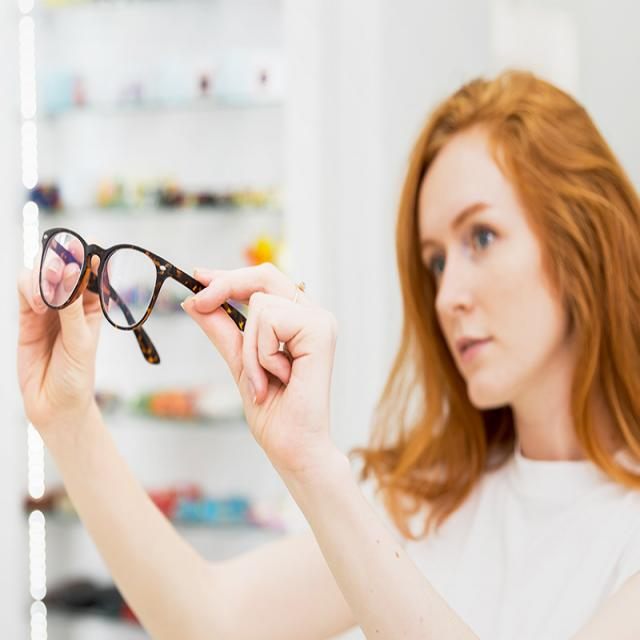glasses: (24, 201, 288, 387)
